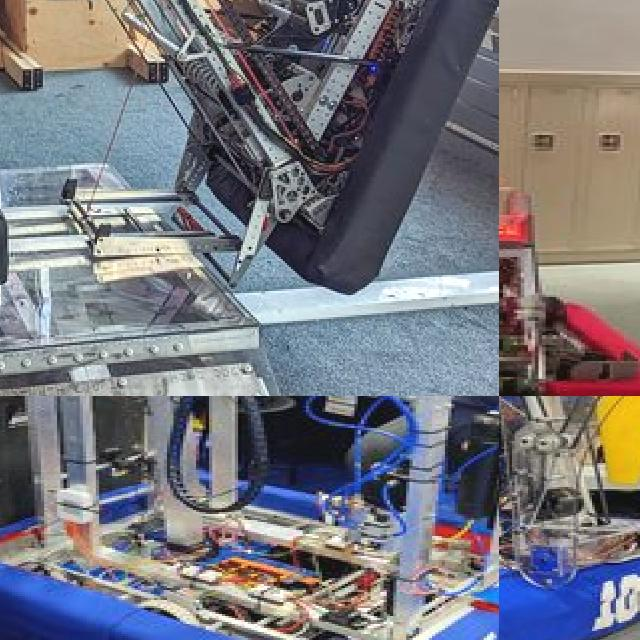FRC-Robots: (20, 0, 499, 295), (0, 396, 499, 640), (499, 0, 640, 396), (499, 396, 640, 640)
